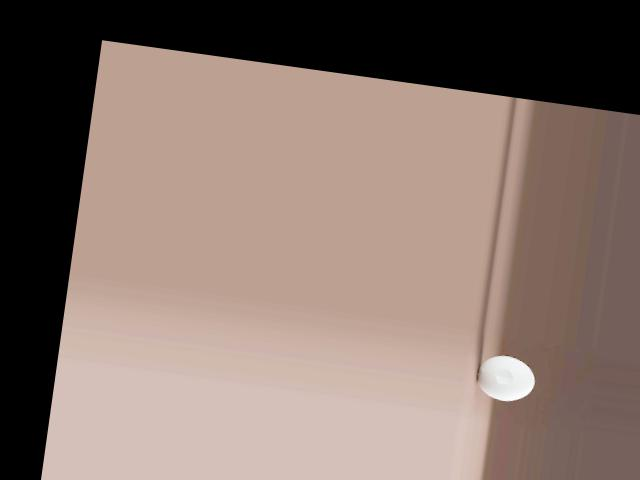egg: (474, 352, 538, 404)
